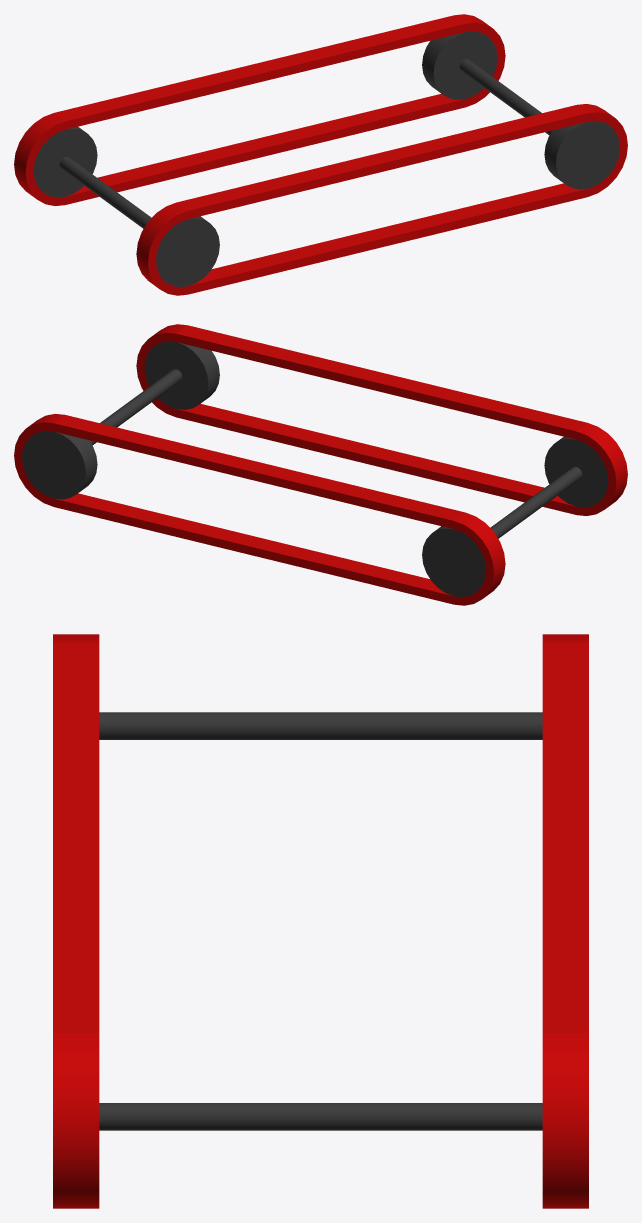
The model's file is belt_turntable.dae.
3 renders of one model, top to bottom at view 1: azimuth 30°, elevation 25°; view 2: azimuth 150°, elevation 25°; view 3: azimuth 270°, elevation 25°, orthographic. The views are drawn at different scales.
Parts seen in each view (by area): view 1: Band (×4), Welle (×6); view 2: Band (×4), Welle (×6); view 3: Band (×2), Welle (×2).
Boxes of the visible parts, x1,y1,x2,y2 form: Band (×4): (14, 14, 627, 295); Welle (×6): (33, 31, 619, 287); Band (×4): (14, 324, 627, 605); Welle (×6): (22, 341, 608, 597); Band (×2): (53, 634, 588, 1208); Welle (×2): (99, 712, 542, 1130).
Bounding box in the file's own units: 4.72 × 2.28 × 0.7874.
